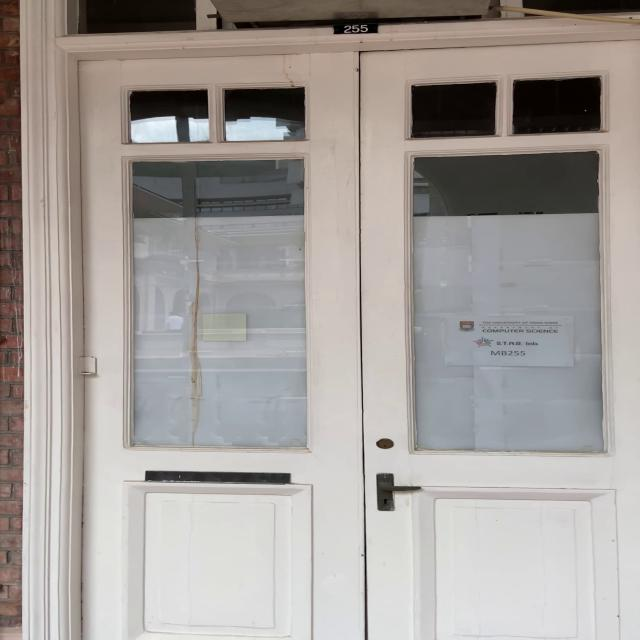room255: (330, 20, 380, 35)
